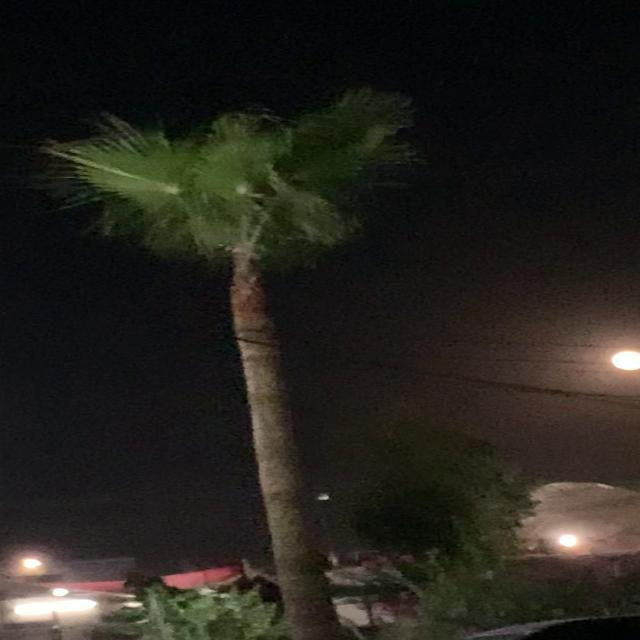moon: (582, 351, 640, 379)
